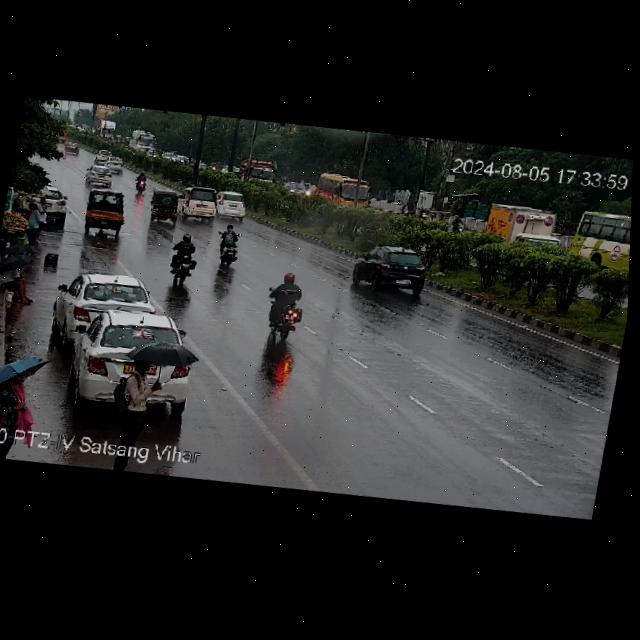bus: (564, 201, 632, 278)
car: (52, 301, 206, 424), (52, 264, 157, 340), (349, 240, 434, 299), (81, 189, 128, 234), (181, 185, 223, 224), (214, 188, 254, 222), (149, 191, 185, 226), (83, 164, 116, 188), (94, 147, 115, 164), (104, 156, 124, 172)
motorcycle: (254, 268, 311, 345), (166, 232, 206, 285), (212, 223, 249, 270), (133, 171, 152, 194)
person: (0, 360, 46, 462), (115, 357, 158, 443), (0, 263, 42, 307), (22, 202, 44, 246), (34, 197, 52, 240)
truck: (479, 198, 572, 257)
